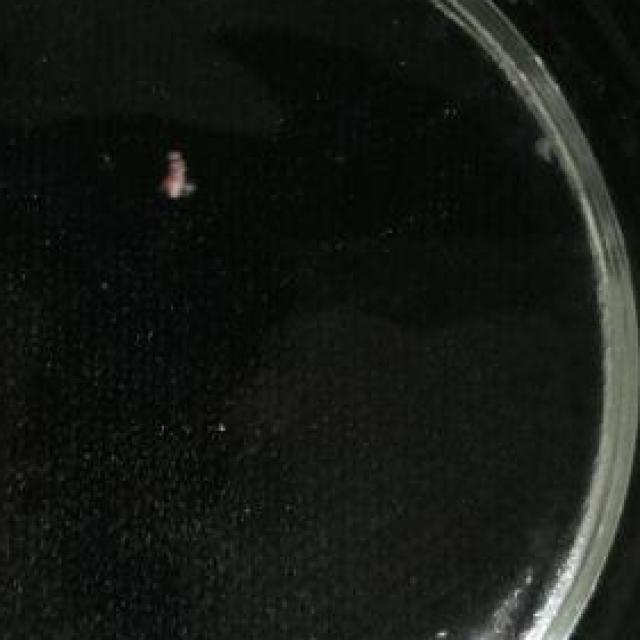Microplastic: (152, 138, 212, 221)
